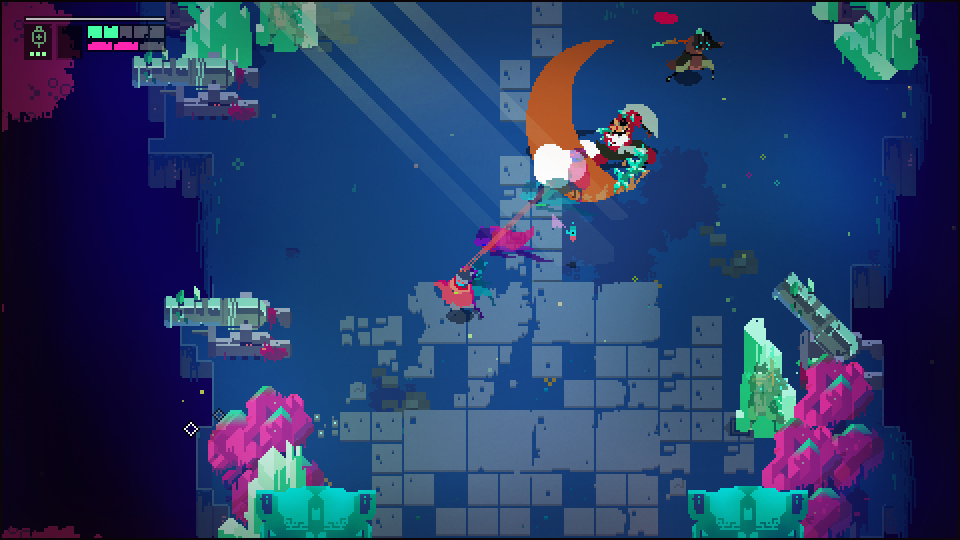hanged_man: (579, 110, 657, 191)
player: (438, 275, 476, 313)
